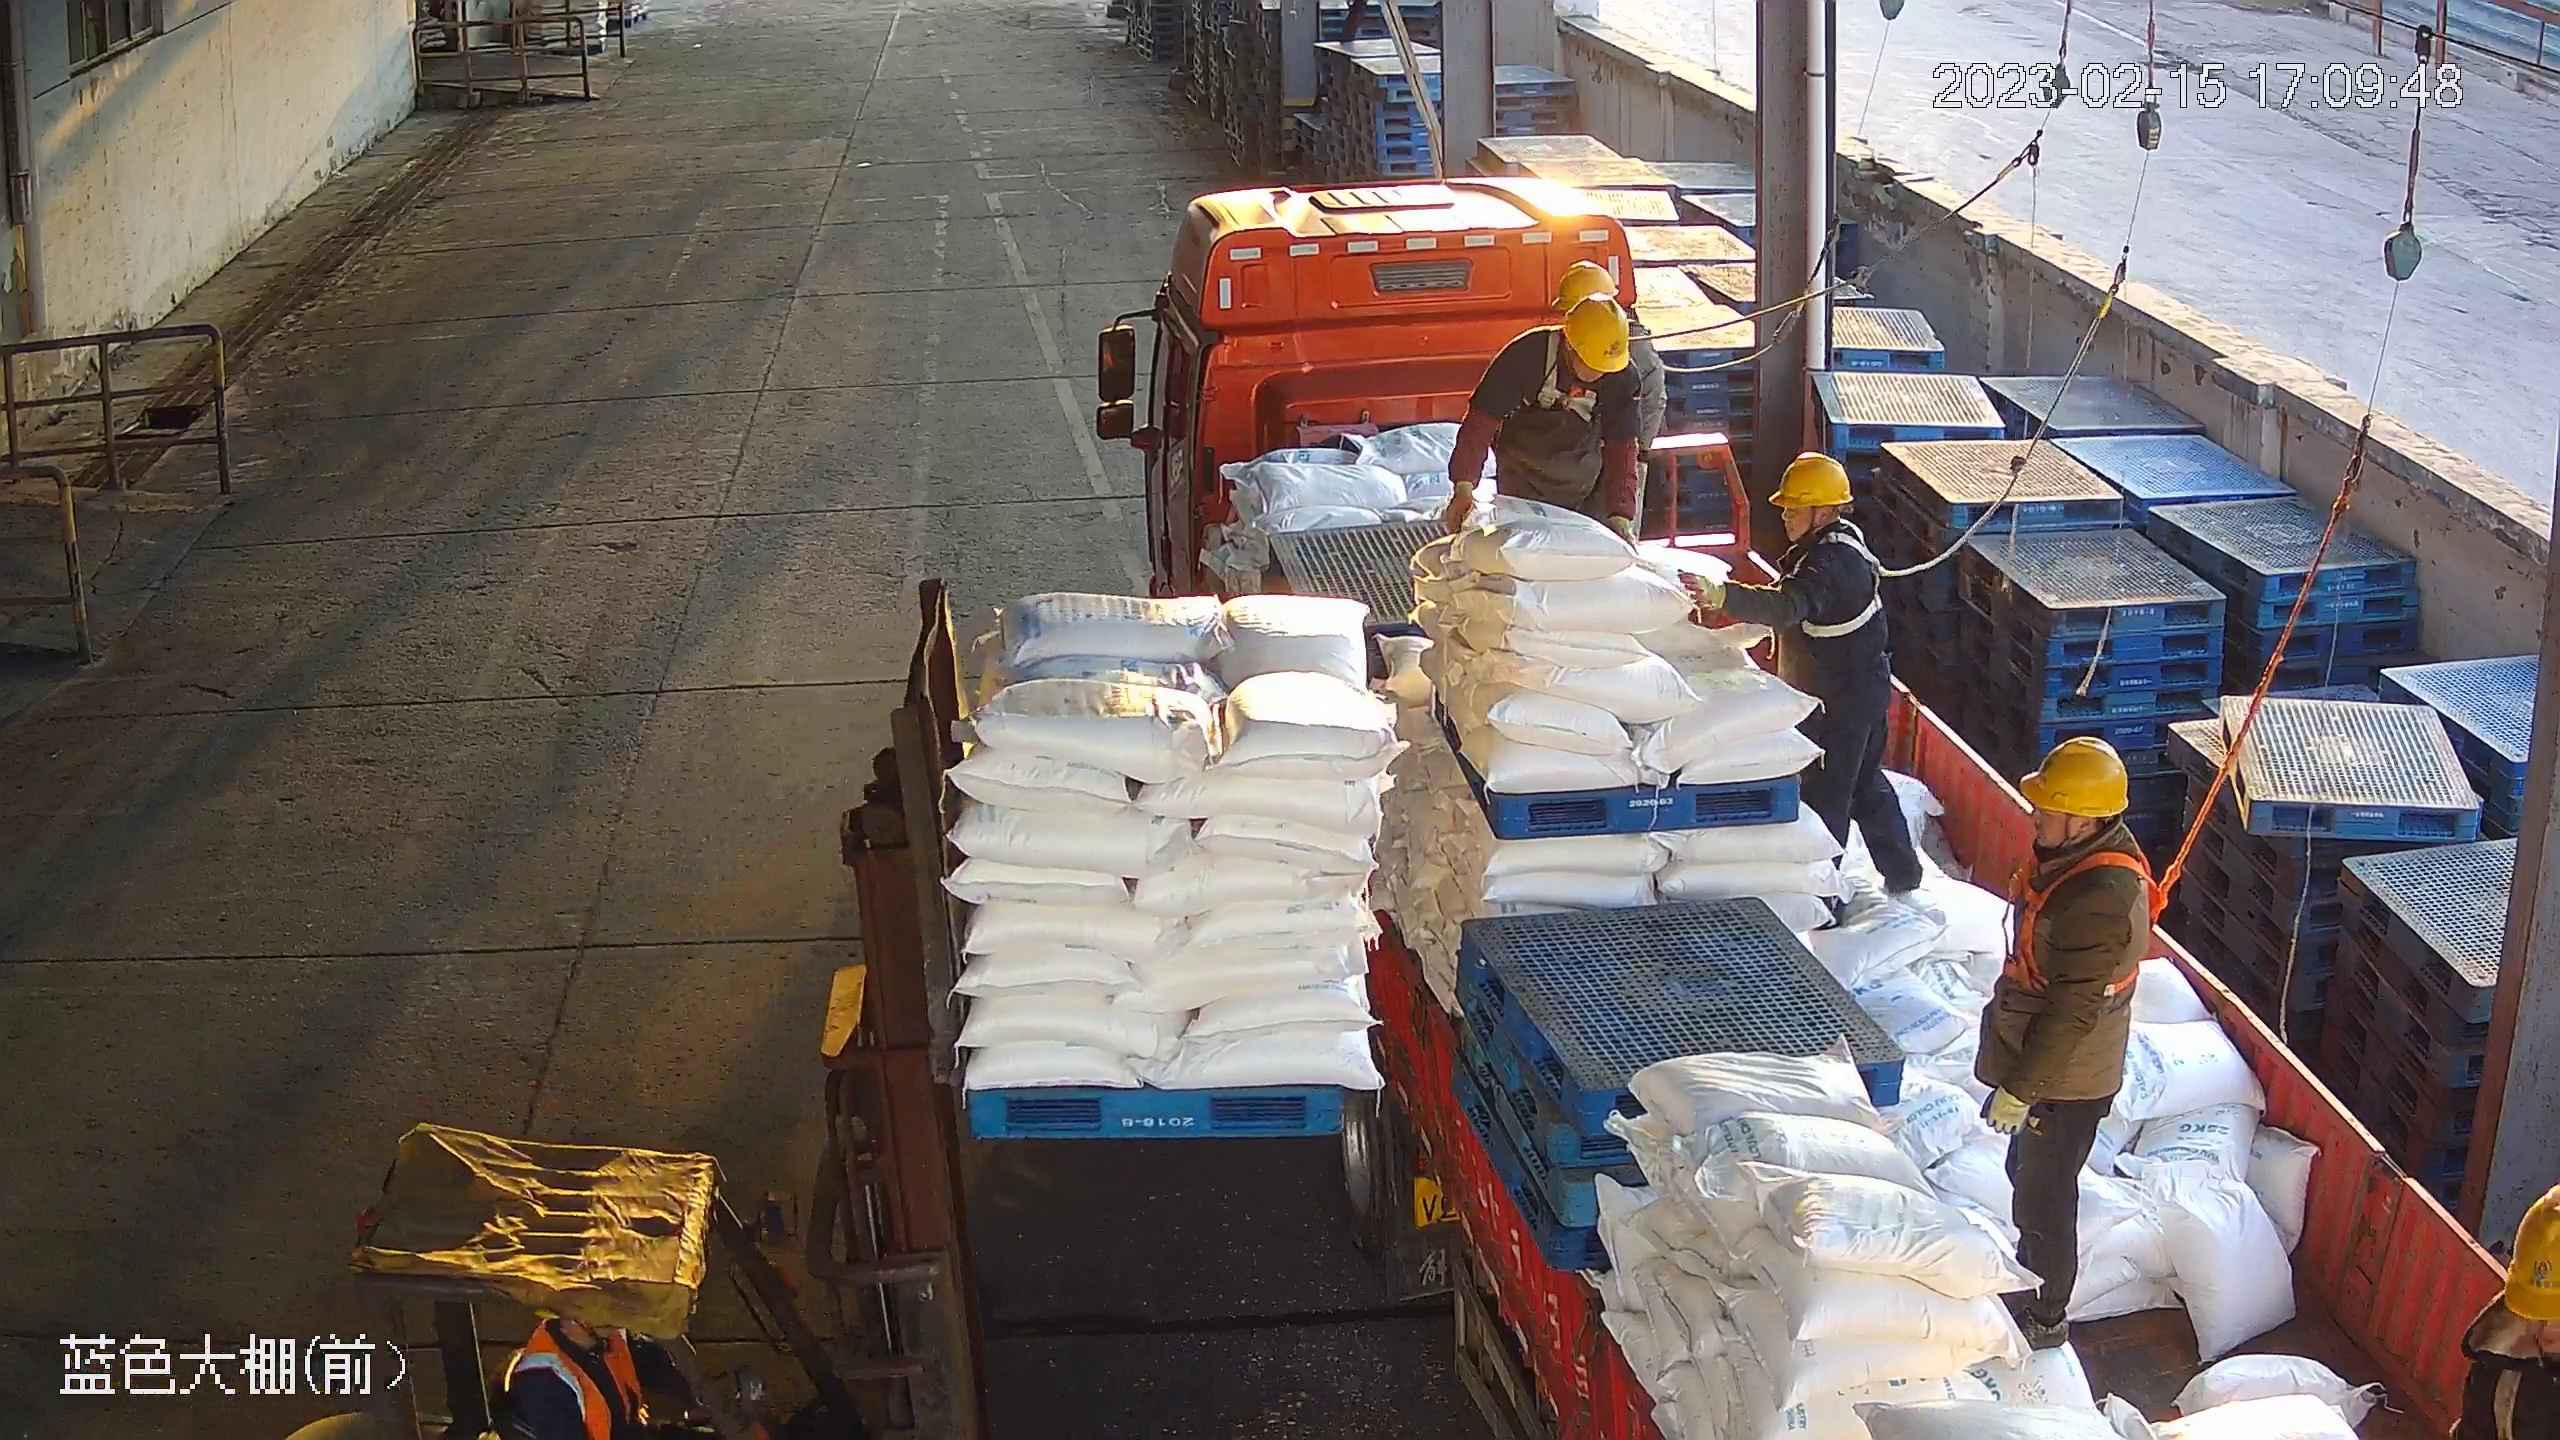belt: (2009, 852, 2169, 999), (1776, 514, 1906, 639), (1540, 327, 1634, 423)
head: (2015, 733, 2151, 918), (1489, 290, 1642, 393), (1766, 450, 1880, 587)
helmet: (2020, 734, 2130, 818), (1562, 291, 1632, 374), (1769, 450, 1852, 509), (1549, 257, 1619, 310)
people: (1683, 448, 1922, 933), (1974, 734, 2154, 1352)
truck: (1142, 170, 2560, 1440)
